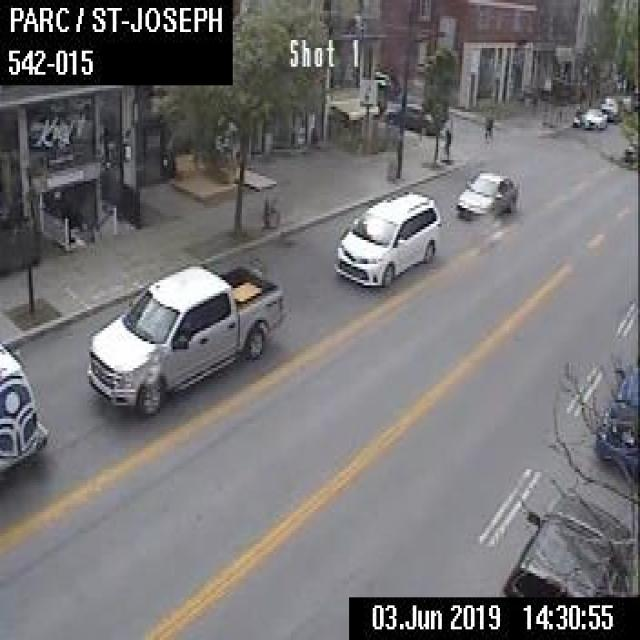pedestrian: (480, 107, 495, 149), (441, 124, 451, 162)
vehicle: (84, 261, 280, 416), (498, 490, 633, 594), (331, 190, 436, 286), (0, 342, 49, 478), (595, 349, 638, 475), (454, 165, 516, 219), (383, 102, 438, 134), (373, 68, 400, 94), (600, 93, 622, 121), (580, 106, 606, 128), (622, 92, 634, 112)
